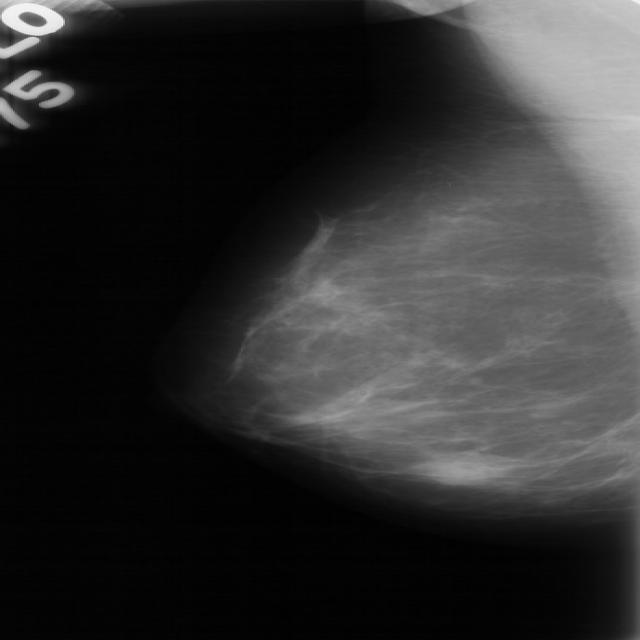tumour: (421, 452, 516, 486)
